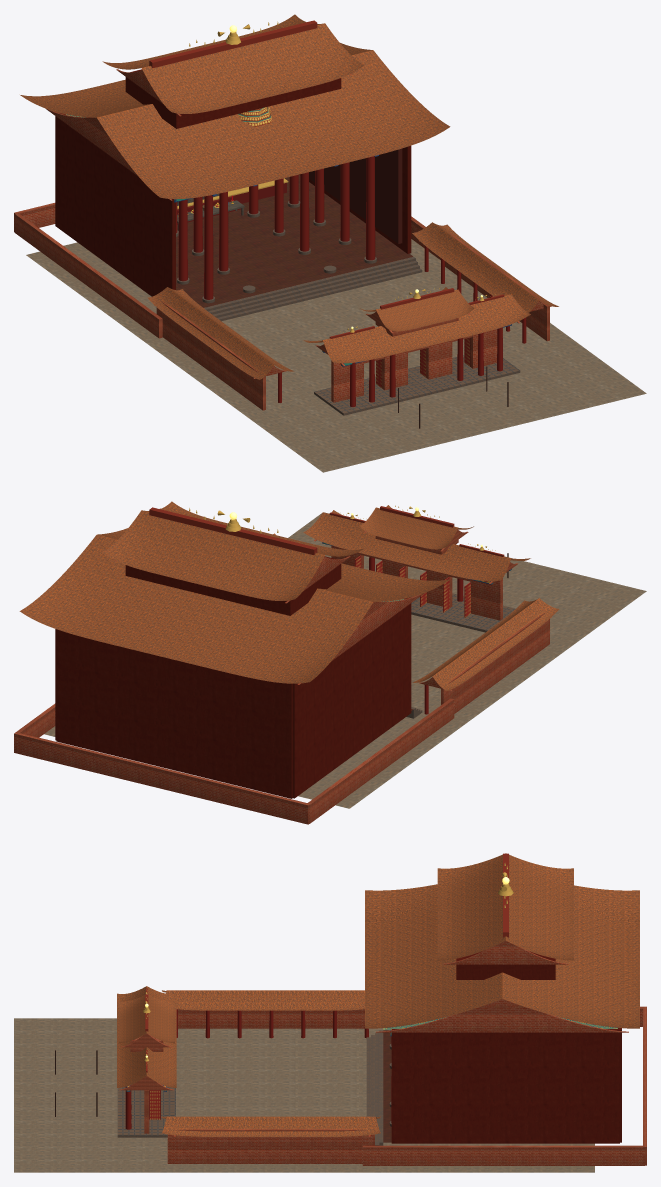
The model's file is static.glb.
3 renders of one model, top to bottom at view 1: azimuth 30°, elevation 25°; view 2: azimuth 150°, elevation 25°; view 3: azimuth 270°, elevation 25°, orthographic. The views are drawn at different scales.
Parts seen in each view (by area): view 1: bake_0, bake_305, bake_132, bake_130, bake_311, bake_26, bake_291, bake_123, bake_2, bake_107, bake_98, bake_119 (+24 smaller); view 2: bake_131, bake_306, bake_0, bake_132, bake_312, bake_122, bake_27, bake_123, bake_107, bake_98, bake_305, bake_309 (+9 smaller); view 3: bake_0, bake_133, bake_305, bake_306, bake_110, bake_311, bake_124, bake_312, bake_118, bake_106, bake_308, bake_98 (+11 smaller).
Boxes of the visible parts, <box> form: bake_0: <box>26,239,646,472</box>; bake_305: <box>97,50,450,199</box>; bake_132: <box>55,113,175,296</box>; bake_130: <box>176,175,413,307</box>; bake_311: <box>141,23,364,113</box>; bake_26: <box>323,294,530,363</box>; bake_291: <box>309,148,402,243</box>; bake_123: <box>14,213,162,338</box>; bake_2: <box>314,355,520,415</box>; bake_107: <box>147,287,274,379</box>; bake_98: <box>156,301,265,410</box>; bake_119: <box>412,222,539,312</box>; bake_131: <box>56,629,292,798</box>; bake_306: <box>19,534,373,683</box>; bake_0: <box>44,512,646,808</box>; bake_132: <box>292,597,411,798</box>; bake_312: <box>102,510,324,600</box>; bake_122: <box>14,732,309,824</box>; bake_27: <box>303,512,511,581</box>; bake_123: <box>307,698,454,823</box>; bake_107: <box>432,598,559,690</box>; bake_98: <box>441,612,549,713</box>; bake_305: <box>97,508,449,601</box>; bake_309: <box>125,556,341,615</box>; bake_0: <box>14,1018,594,1172</box>; bake_133: <box>391,1029,619,1143</box>; bake_305: <box>365,884,502,1028</box>; bake_306: <box>502,885,639,1028</box>; bake_110: <box>167,1129,374,1163</box>; bake_311: <box>437,853,505,960</box>; bake_124: <box>362,1145,644,1165</box>; bake_312: <box>506,853,573,960</box>; bake_118: <box>162,1116,380,1136</box>; bake_106: <box>166,990,364,1010</box>; bake_308: <box>376,999,628,1032</box>; bake_98: <box>178,1009,364,1028</box>.
Bounding box in the file's own units: 44 × 29.01 × 76.25.
Materials: 45 (25 with a texture image).
